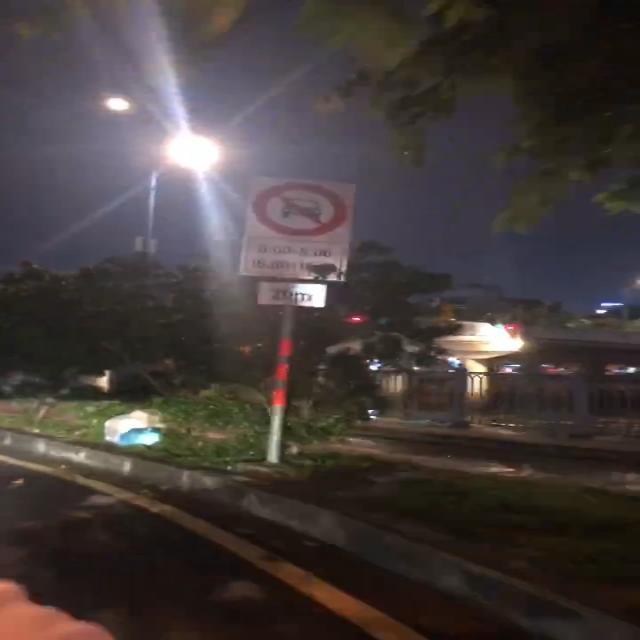Bien bao cam xe oto: (242, 180, 349, 238)
